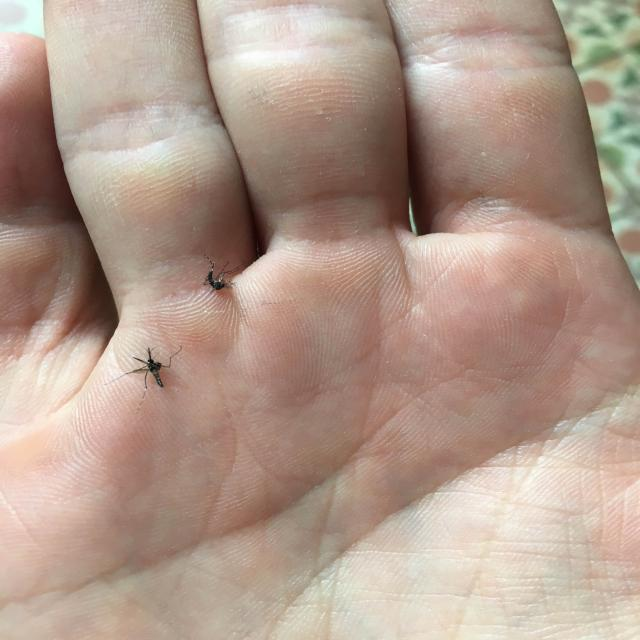albopictus: (111, 340, 184, 393)
